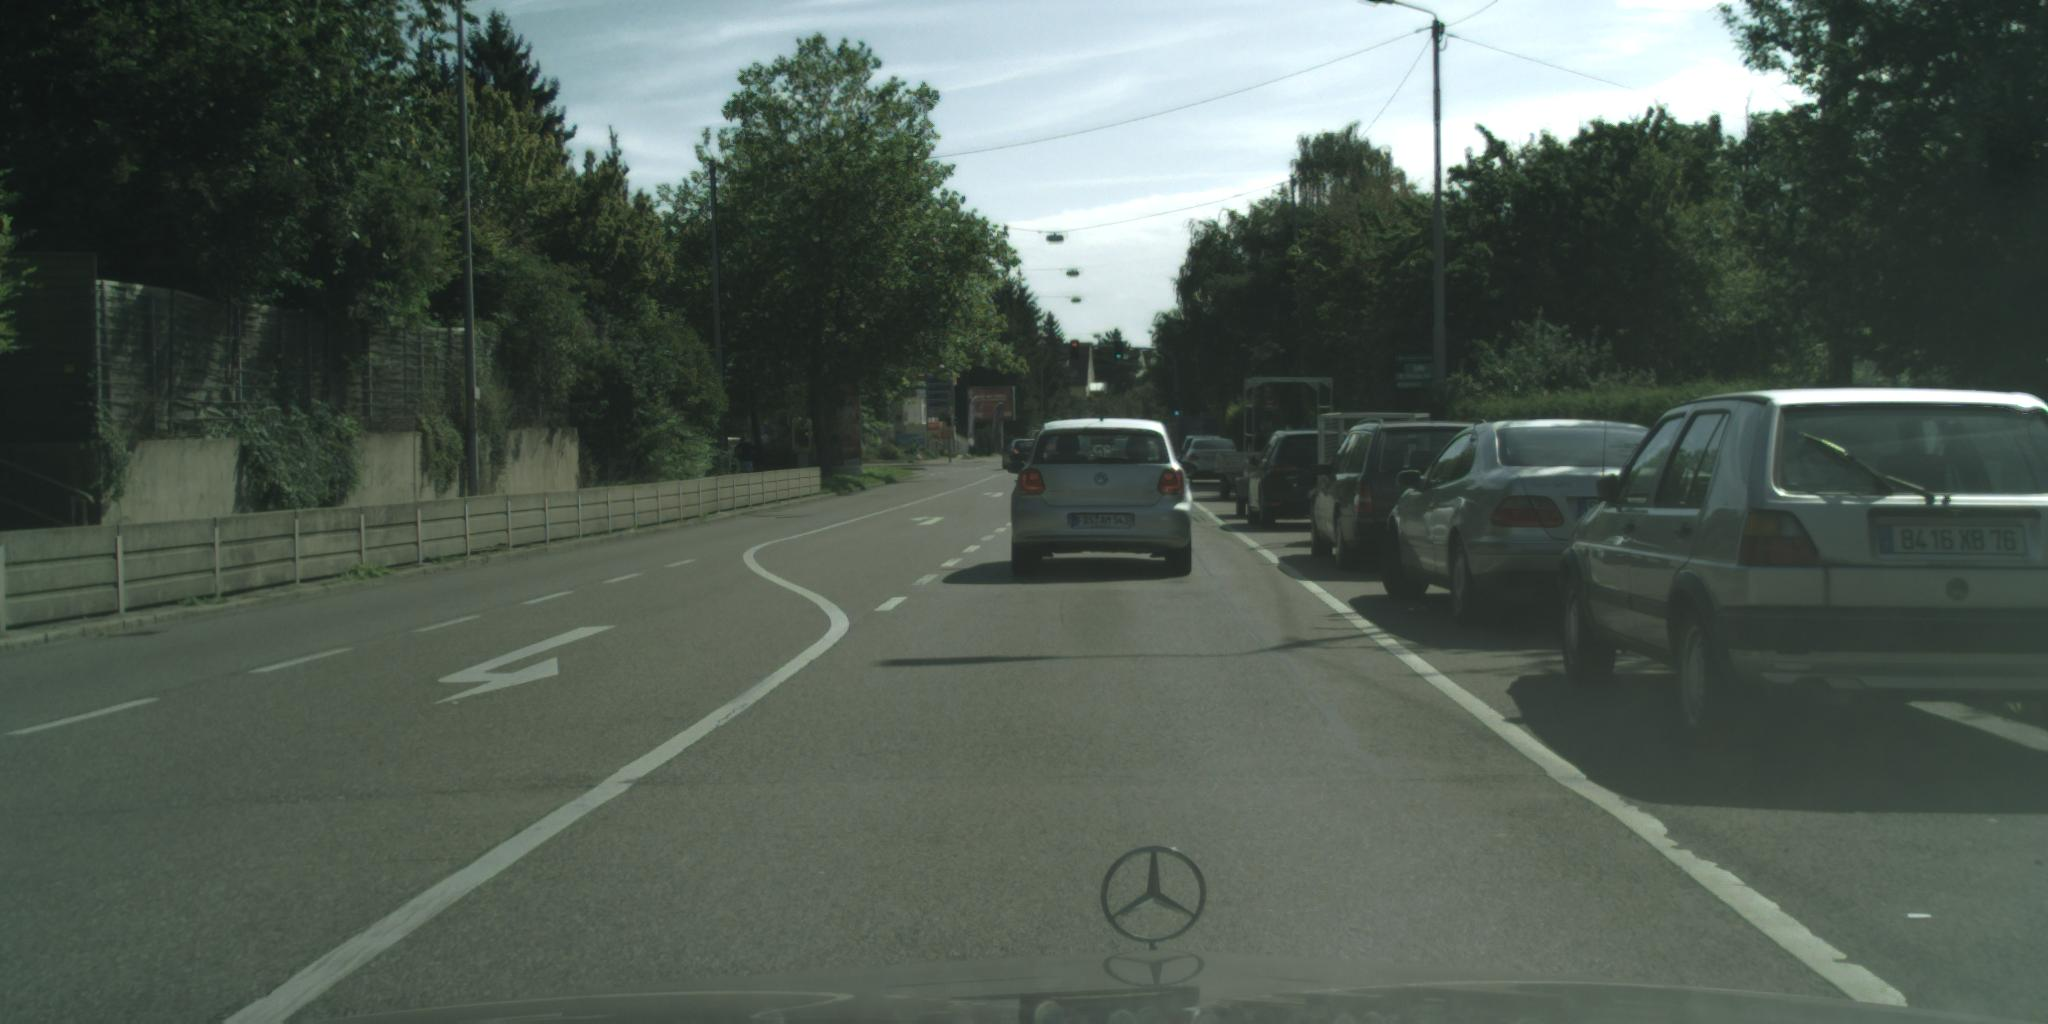car: (1560, 389, 2045, 741), (1384, 421, 1668, 628), (1011, 419, 1195, 577), (1309, 417, 1484, 572), (1249, 431, 1354, 532), (1181, 439, 1240, 483), (1003, 441, 1046, 474)
